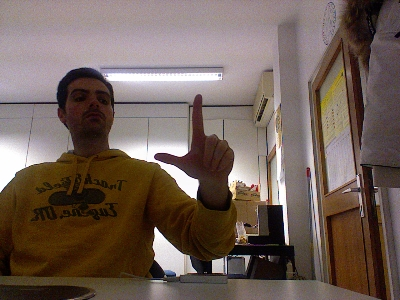枪: (151, 93, 234, 180)
